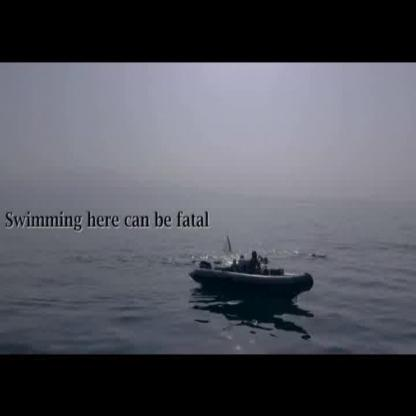Boat: (188, 247, 309, 300)
